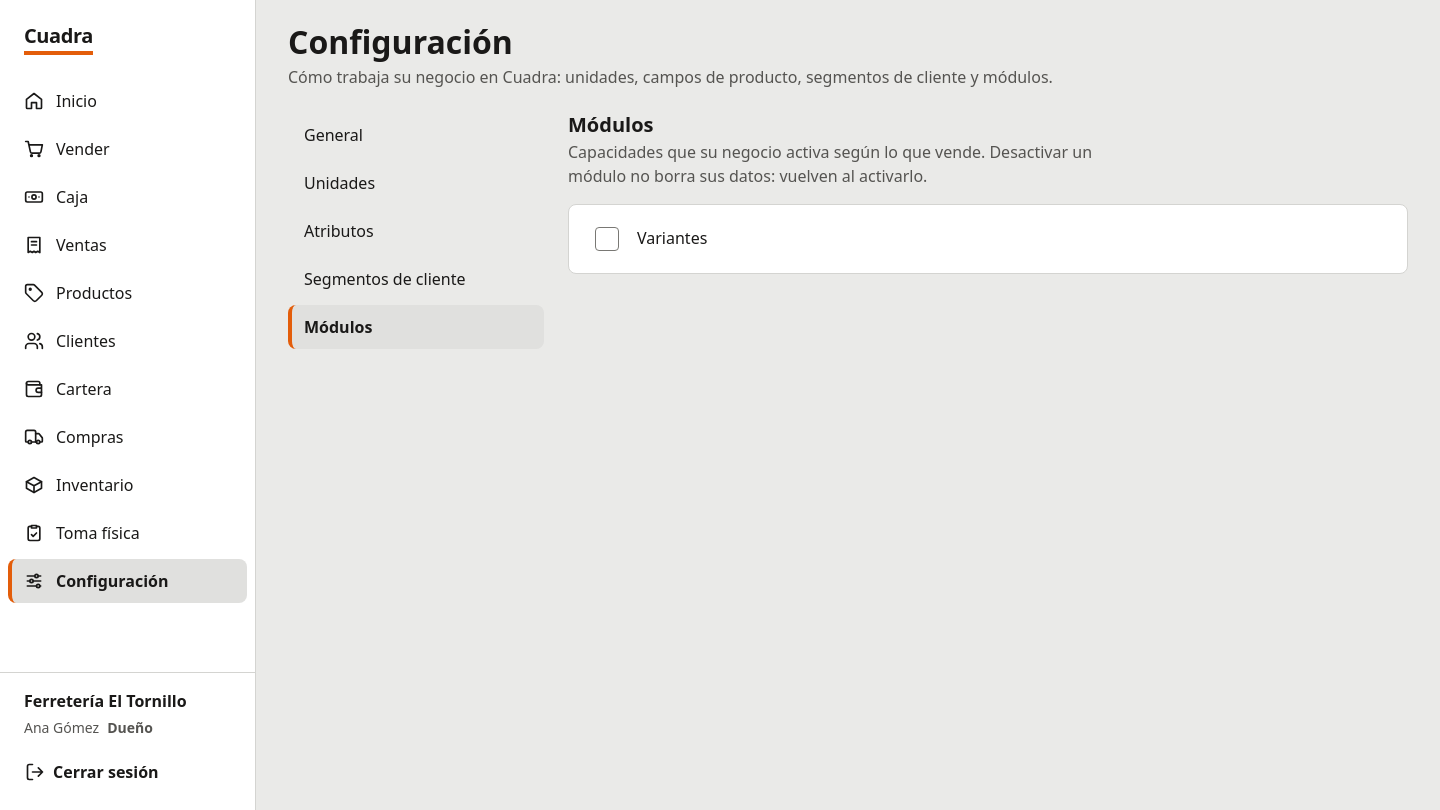
Scenario: ModulesSettings › activa un módulo y vuelve a pedir /me para mostrar sus menús
Click the checkbox labelled "Variantes". click: (672, 238)
box: [637,229,707,247]
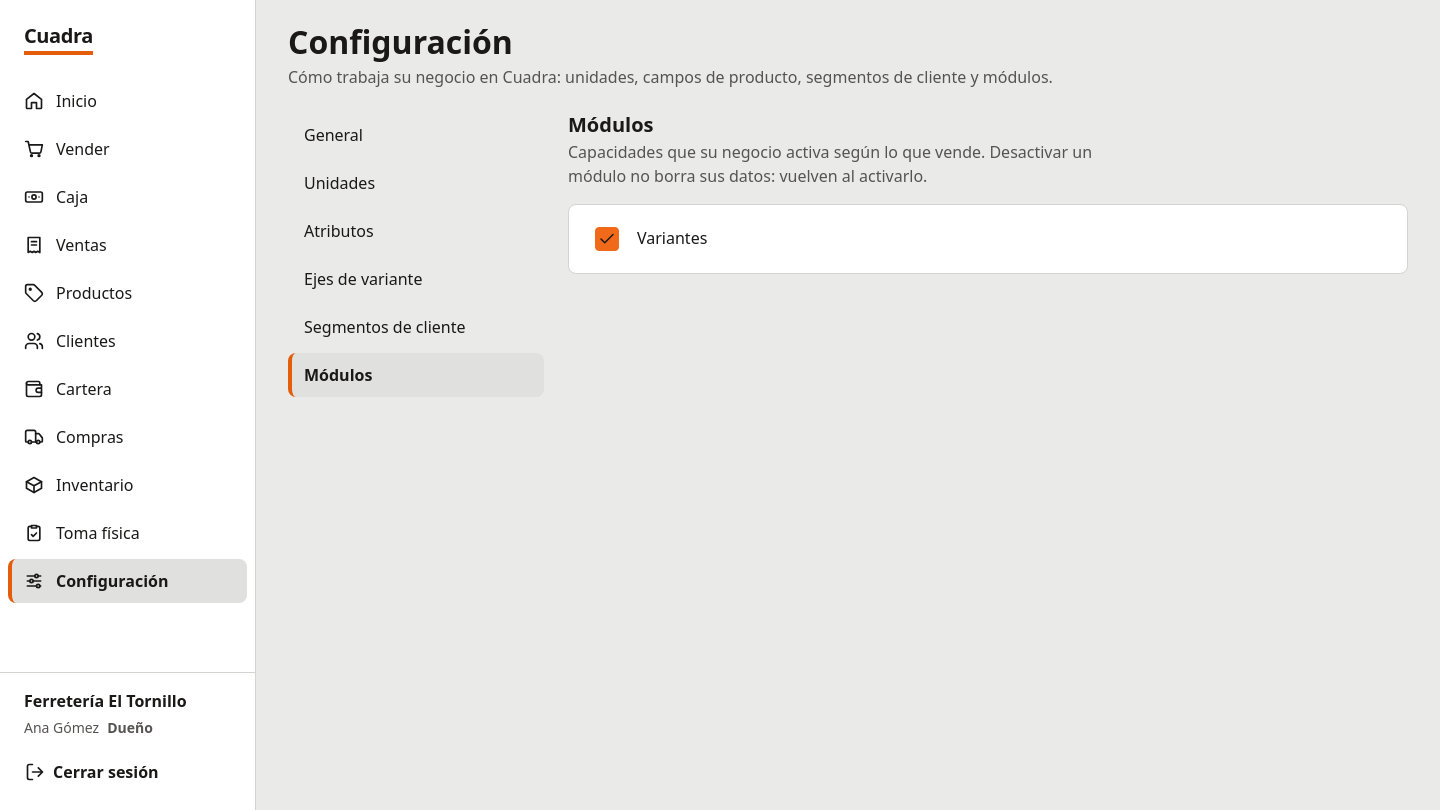
Now the link "Ejes de variante" is shown, box [304,268,422,290]
